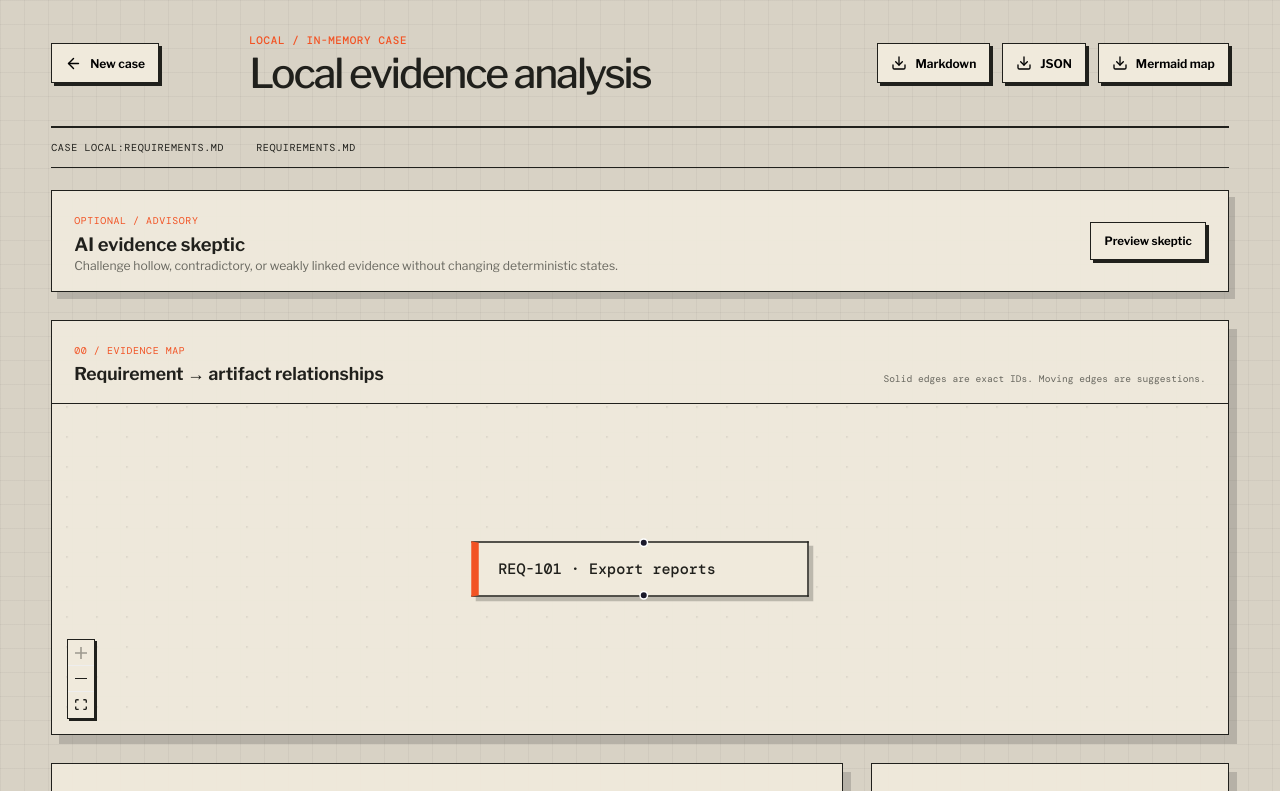
it: review workspace advisory and export controls › interprets changed lines only after approval and keeps the advisory lane separate
Click the button "Preview skeptic": (1148, 241) [1090,222,1206,260]
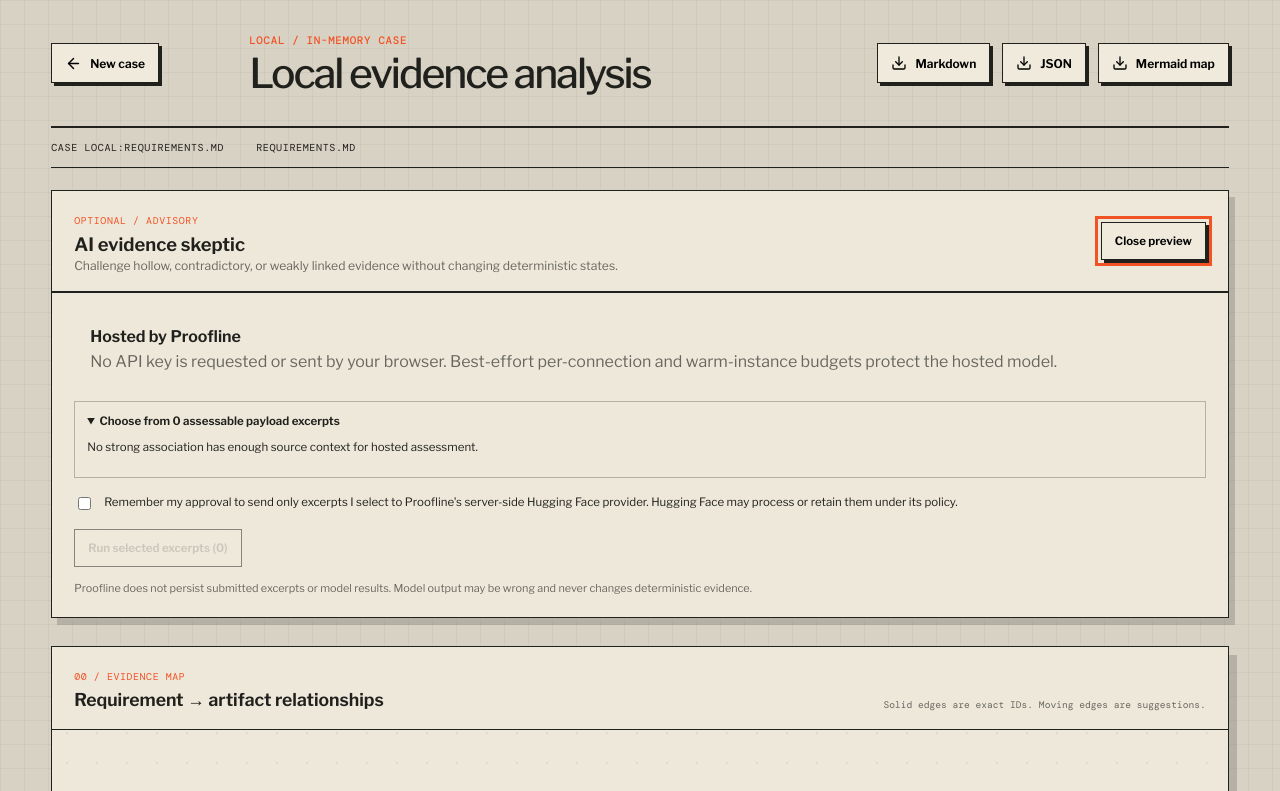
Click the checkbox labelled "Remember my approval": (85, 504) [78,497,91,510]
(page scrolled)
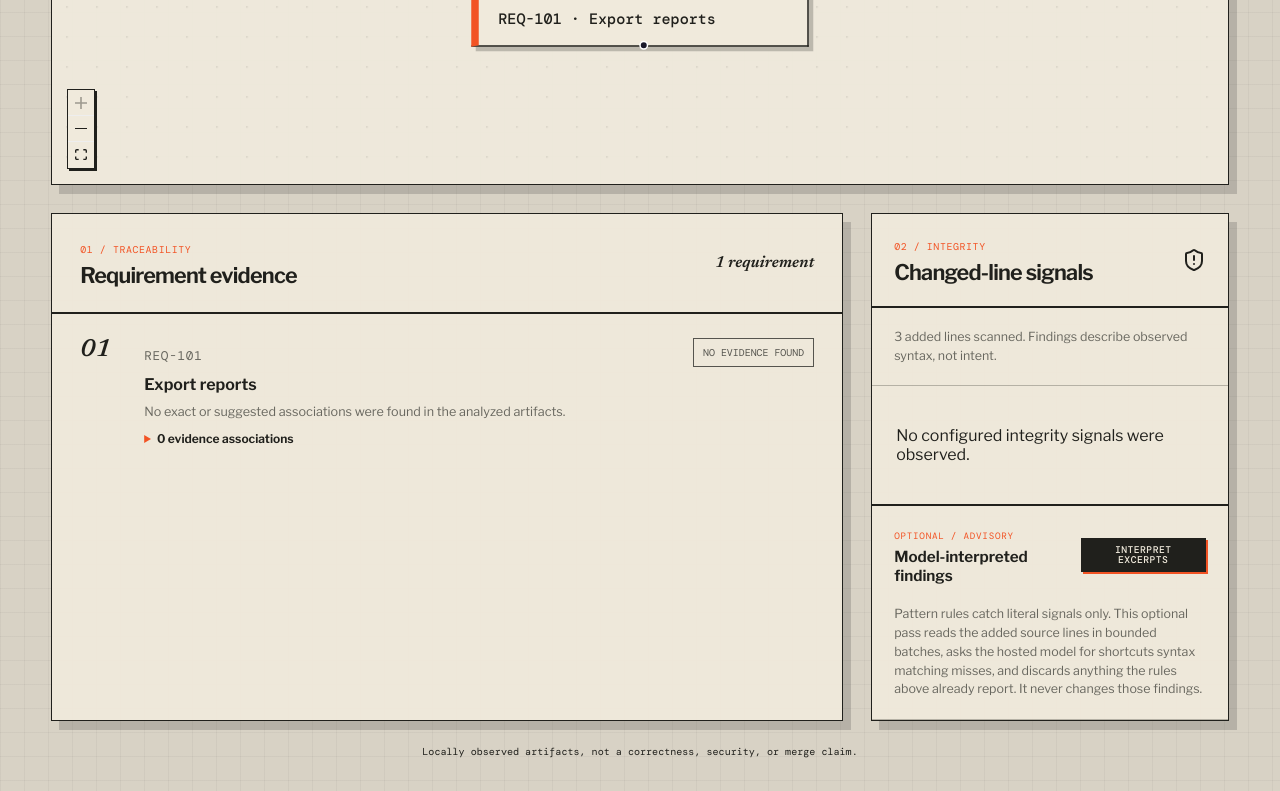
Now the button "Interpret excerpts" is enabled
Click the button "Interpret excerpts": (1143, 555) [1081,538,1206,572]
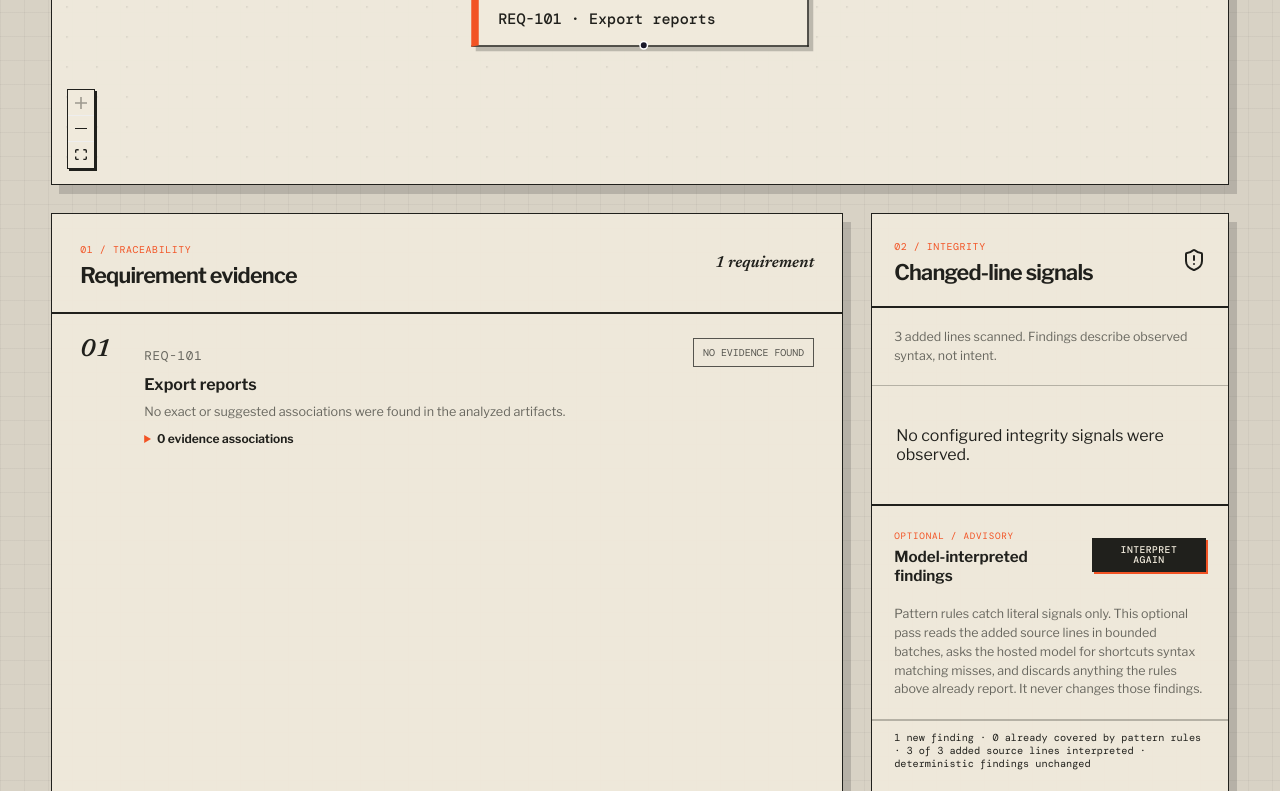
Now the message shows "1 new finding", box [872,720,1228,780]
Now the message shows "deterministic findings unchanged", box [894,744,1146,770]
Now the button "Interpret again" is shown, box [1092,538,1206,572]
